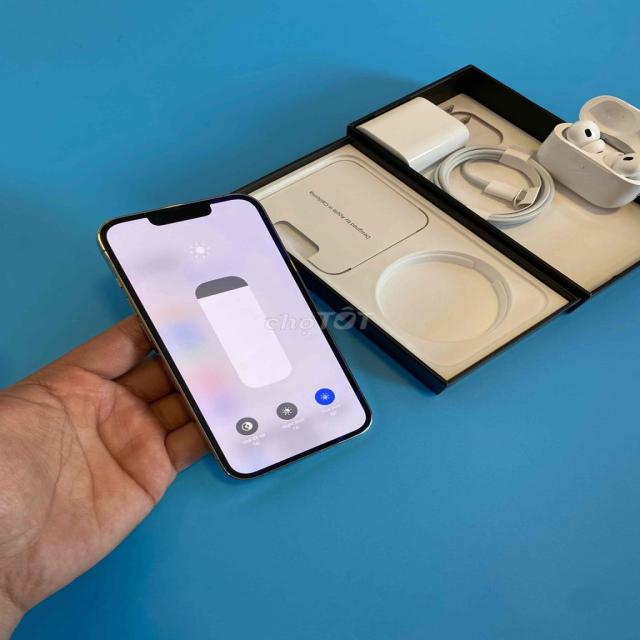gen_12_13: (95, 192, 379, 484)
